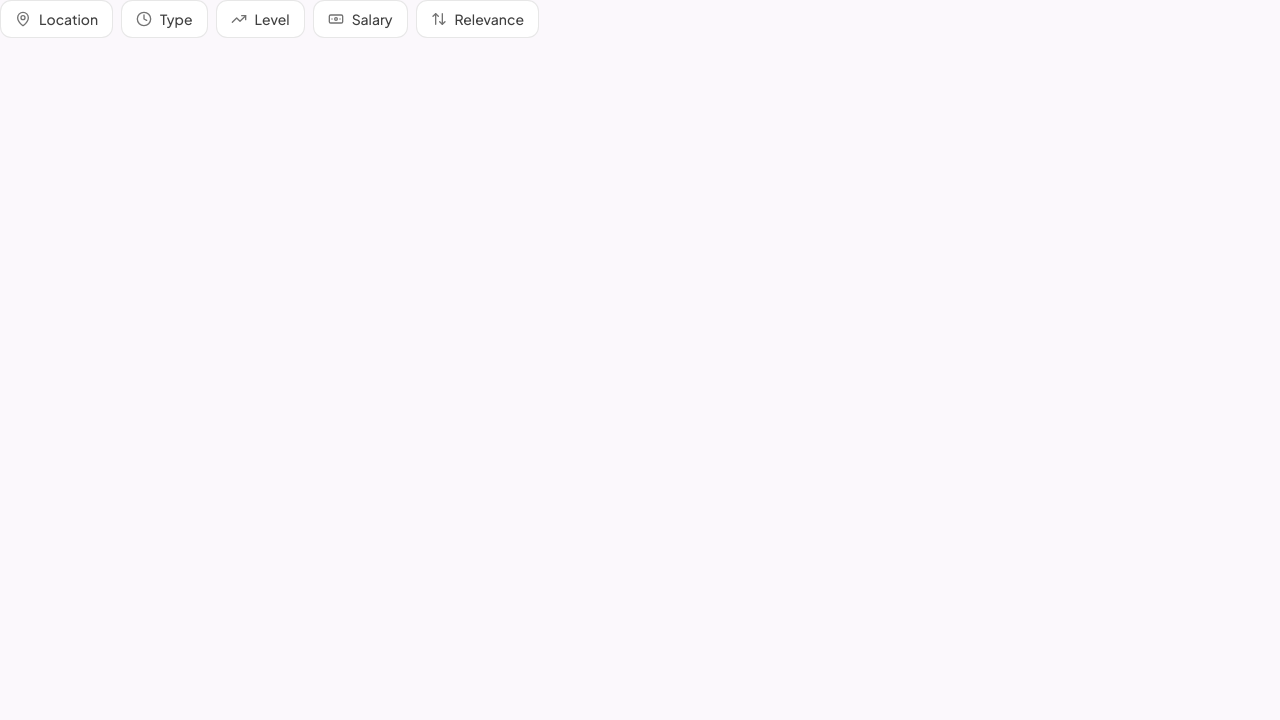
Scenario: ToolbarFilters Component › Type Filter Dropdown (media_1790280879321.png) › opens dropdown and lists all 7 employment type options
Click the button "Type".
click(164, 19)  # box [121,0,208,38]
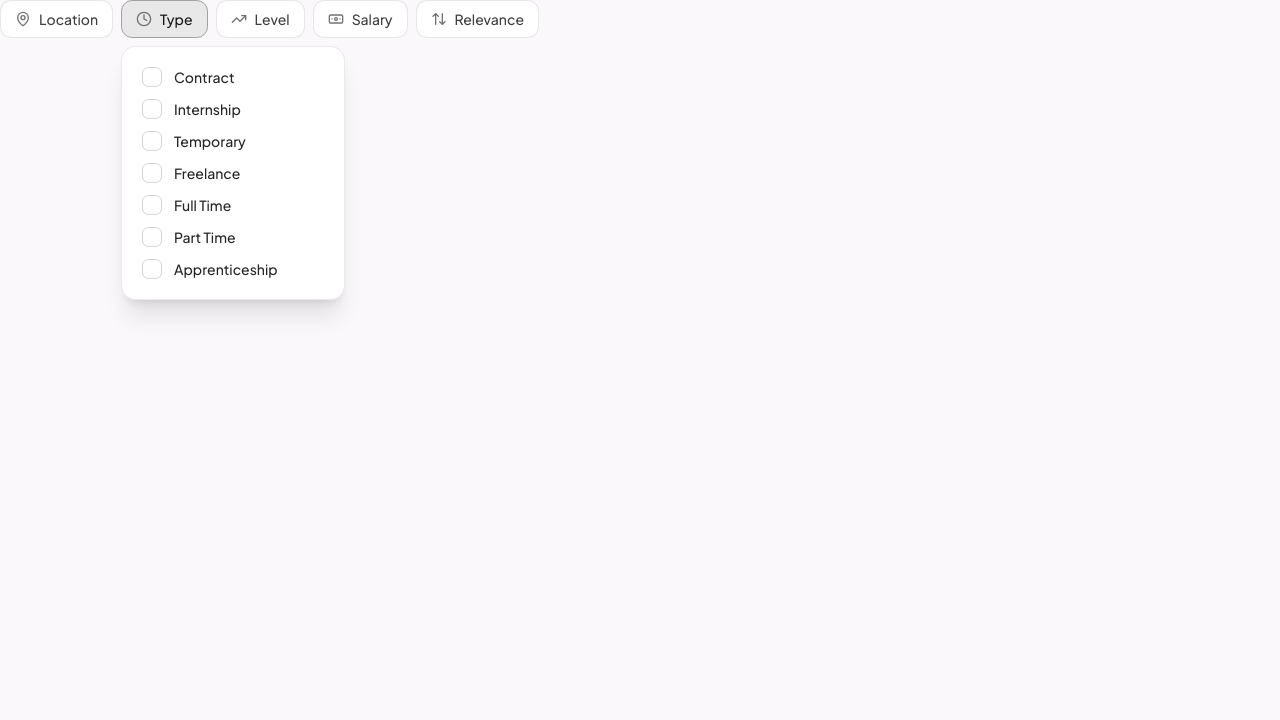
Expected: the dialog named "employment type filter" is shown, [121,46,345,300]
Expected: the text "Contract" is shown, [174,67,234,87]
Expected: the text "Internship" is shown, [174,99,241,119]
